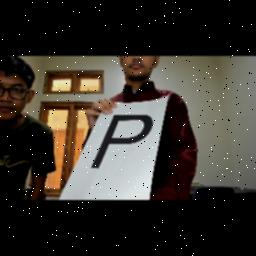p: (92, 110, 156, 176)
